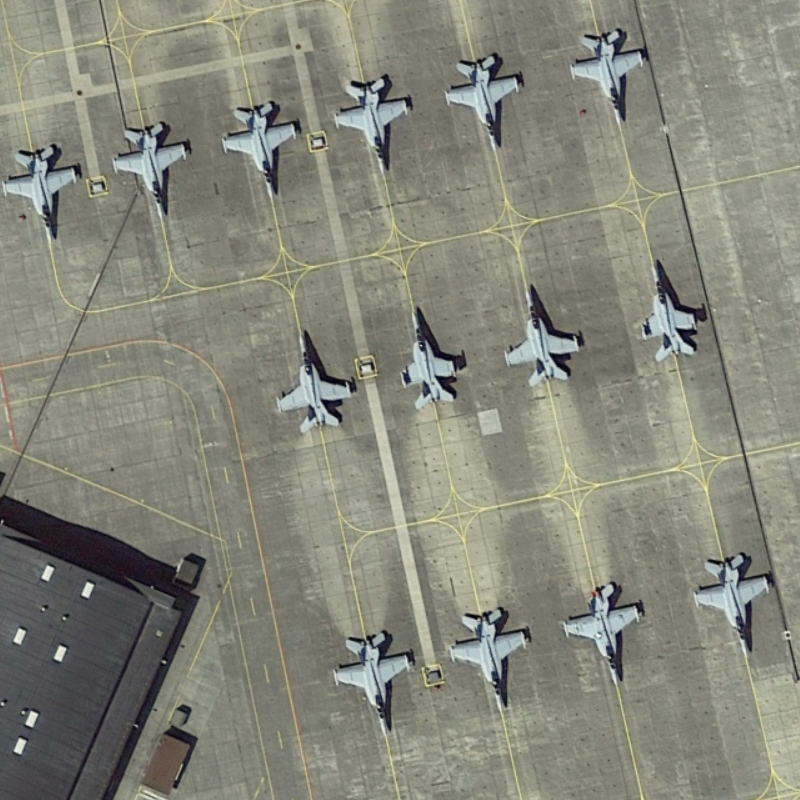A16: (443, 594, 541, 719), (321, 622, 421, 742), (682, 545, 781, 666), (321, 69, 426, 180), (437, 39, 531, 157), (556, 572, 650, 690), (268, 314, 359, 435), (498, 275, 591, 392), (104, 111, 198, 225), (560, 22, 657, 131), (218, 90, 308, 203), (1, 134, 88, 247), (388, 299, 468, 415), (631, 252, 710, 367)
